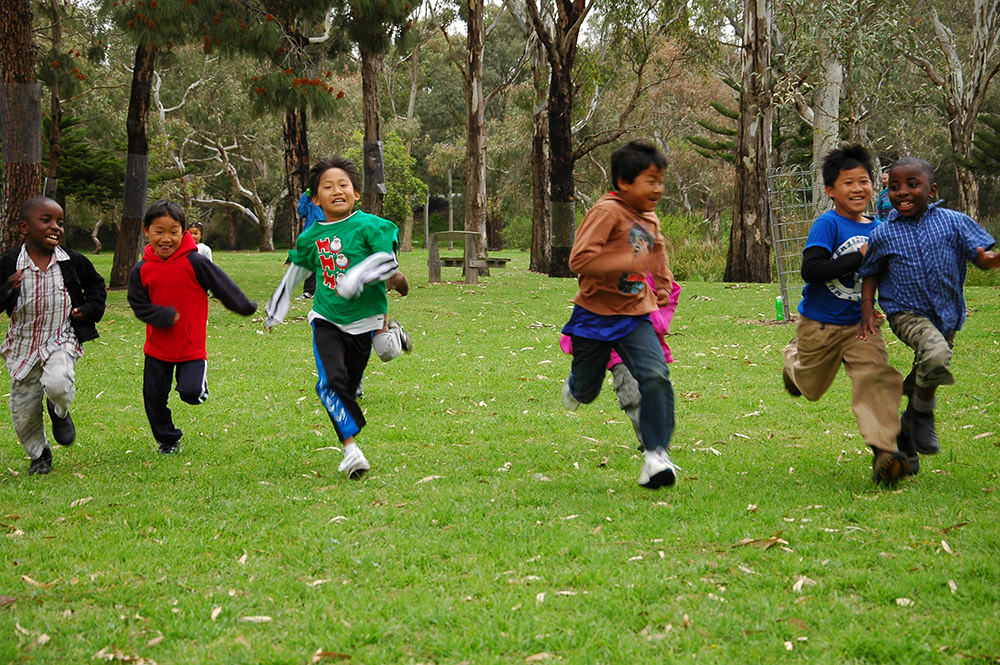person: (260, 153, 416, 483), (860, 155, 1000, 479), (560, 137, 686, 495), (780, 141, 896, 509), (124, 201, 263, 459), (1, 191, 112, 480)
